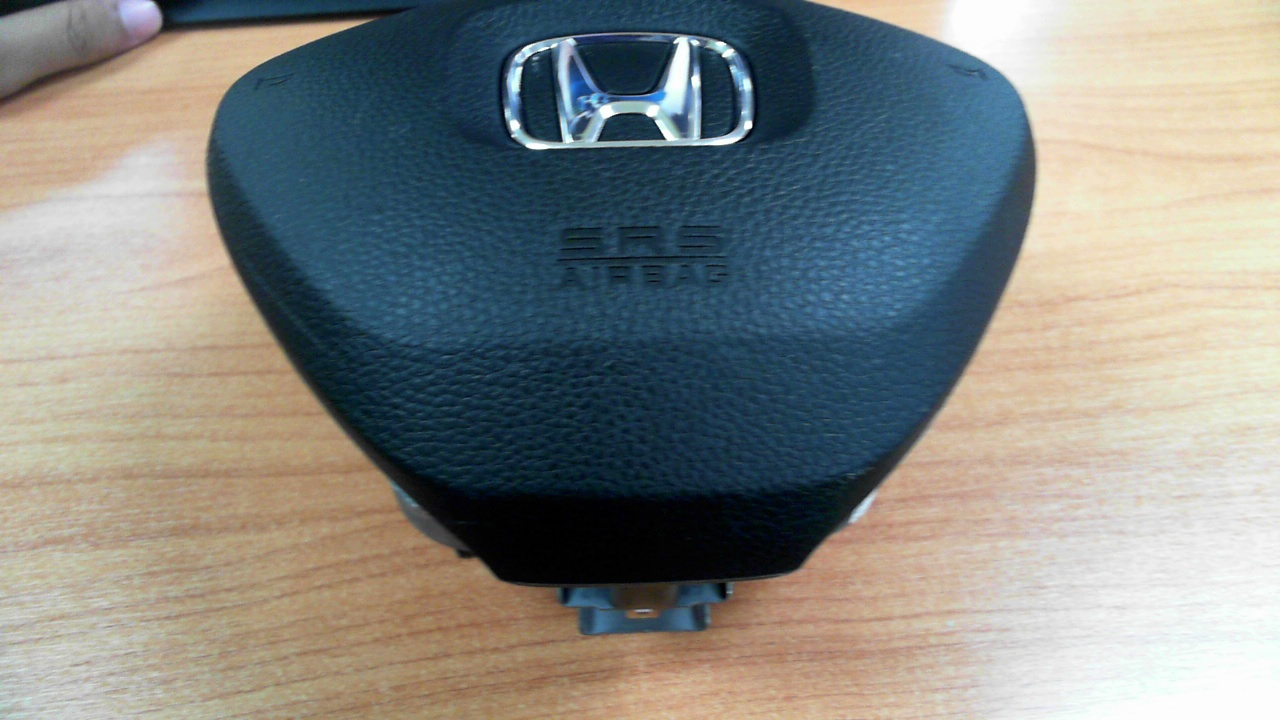Airbag: (206, 0, 1039, 640)
Honda: (502, 32, 755, 150)
